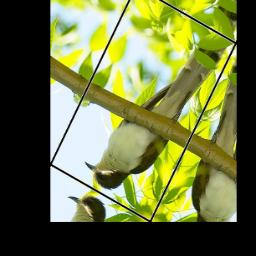Cuckoo: (79, 5, 229, 214)
